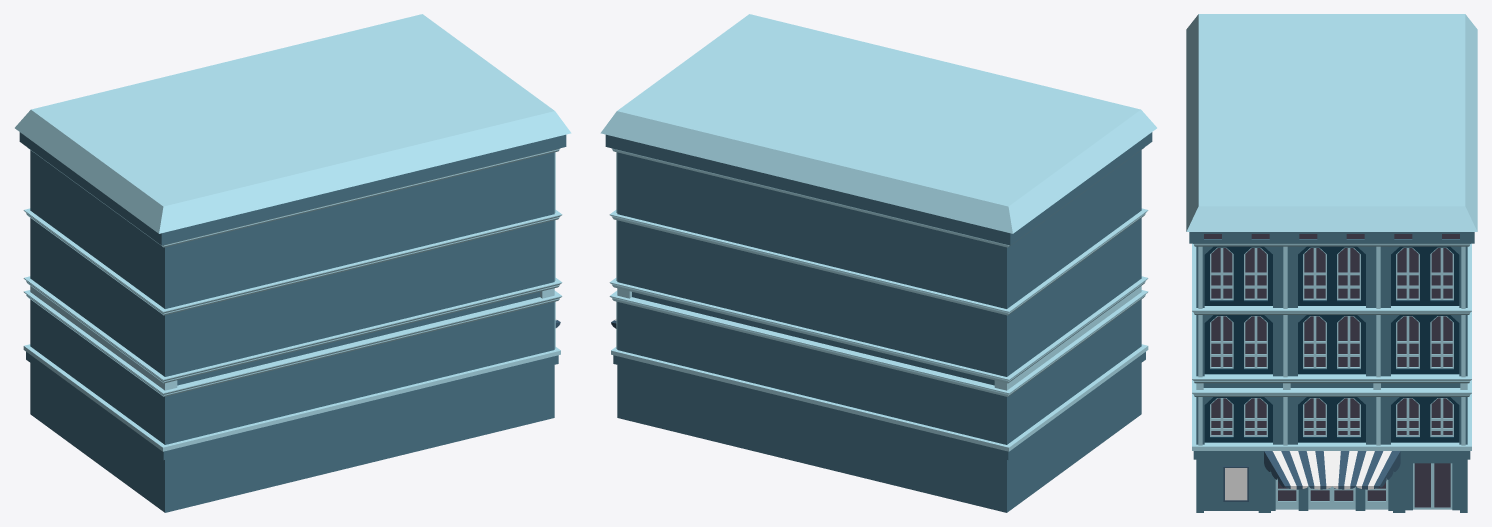
File: Building10.fbx
The picture shows the model from 3 angles, left to right: view 1: azimuth 30°, elevation 25°; view 2: azimuth 150°, elevation 25°; view 3: azimuth 270°, elevation 25°; orthographic projection.
Parts seen in each view (by area): view 1: Plane.032, Plane.026, Plane.009, Plane.028, Plane.031; view 2: Plane.032, Plane.026, Plane.009, Plane.028, Plane.031; view 3: Plane.032, Plane.026, Plane.028, Plane.009, Plane.031.
Boxes of the visible parts, x1,y1,x2,y2 form: Plane.032: (15,14,571,245); Plane.026: (23,276,562,444); Plane.009: (23,319,560,512); Plane.028: (23,208,562,376); Plane.031: (27,147,559,308); Plane.032: (600,14,1156,245); Plane.026: (609,276,1148,444); Plane.009: (611,319,1148,512); Plane.028: (609,208,1148,376); Plane.031: (612,147,1144,308); Plane.032: (1186,14,1477,243); Plane.026: (1192,311,1471,445); Plane.028: (1192,243,1471,377); Plane.009: (1192,393,1471,512); Plane.031: (1193,243,1470,308).
Bounding box in the file's own units: 3471 × 2250 × 1930.
